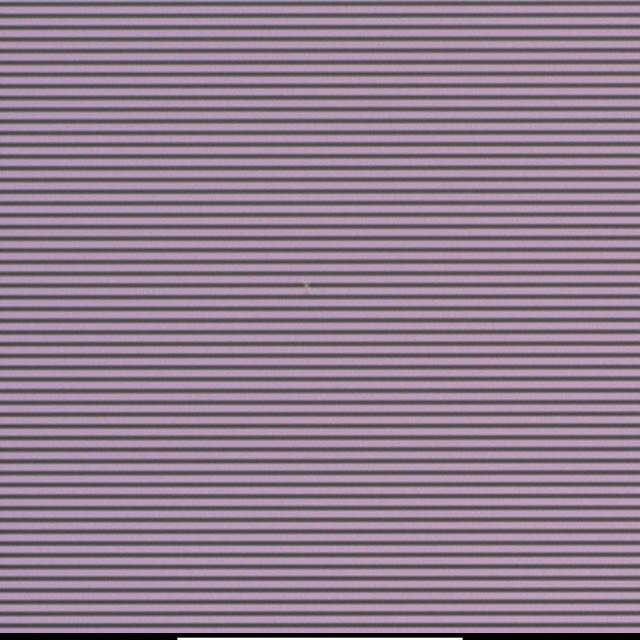03_intrusion: (300, 280, 311, 296)
